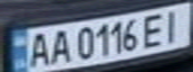0: (72, 24, 96, 61)
1: (106, 17, 127, 54), (93, 20, 112, 56)
6: (121, 15, 145, 52)
A: (21, 29, 54, 69), (45, 27, 72, 64)
E: (139, 10, 169, 48)
I: (157, 6, 190, 44)
